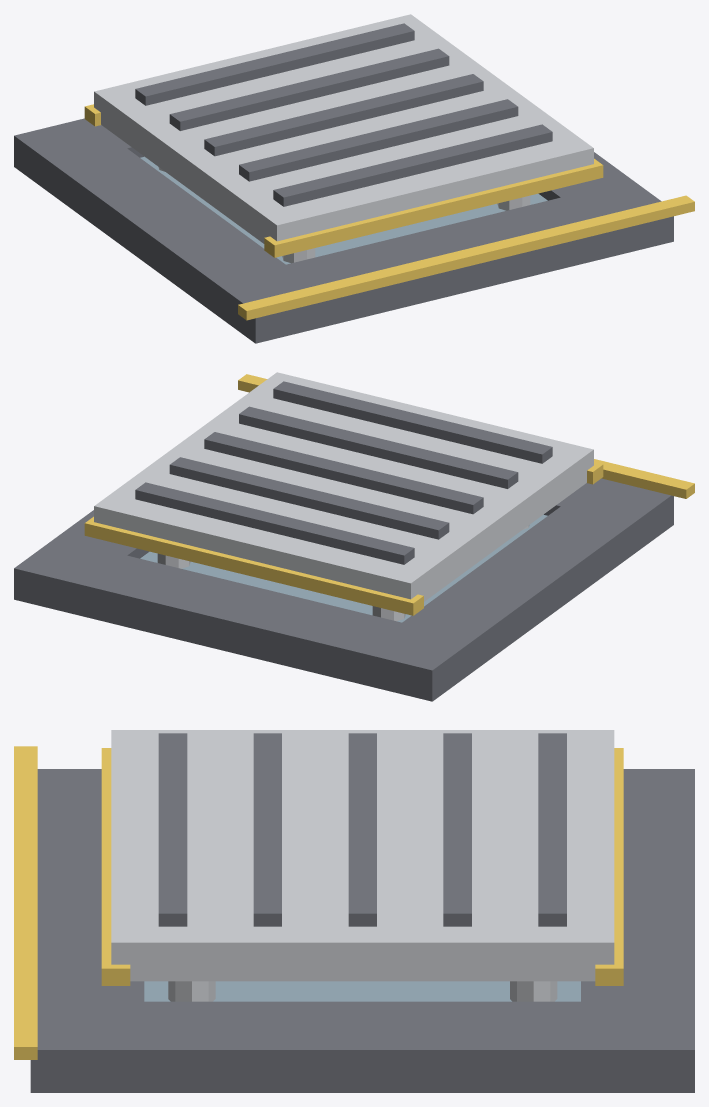
File: animated-mechanisms-kit-pressure-plate-a93ec3c9__24635.glb
3 views of the same model, one above another, from view 1: azimuth 30°, elevation 25°; view 2: azimuth 150°, elevation 25°; view 3: azimuth 270°, elevation 25° (orthographic). The views are drawn at different scales.
Parts seen in each view (by area): view 1: pressure-plate, plate/steel, plate/iron, plate/accent; view 2: pressure-plate, plate/steel, plate/iron, plate/accent; view 3: pressure-plate, plate/steel, plate/iron, plate/accent.
Boxes of the visible parts, x1,y1,x2,y2 form: pressure-plate: [14, 118, 694, 343]; plate/steel: [94, 14, 593, 243]; plate/iron: [135, 23, 552, 206]; plate/accent: [84, 104, 603, 257]; pressure-plate: [14, 374, 694, 701]; plate/steel: [94, 372, 593, 601]; plate/iron: [135, 381, 552, 564]; plate/accent: [84, 462, 603, 615]; pressure-plate: [14, 746, 694, 1092]; plate/steel: [111, 730, 614, 981]; plate/iron: [158, 733, 566, 926]; plate/accent: [101, 748, 623, 985].
Bounding box in the file's own units: 1.5 × 0.3 × 1.43.
